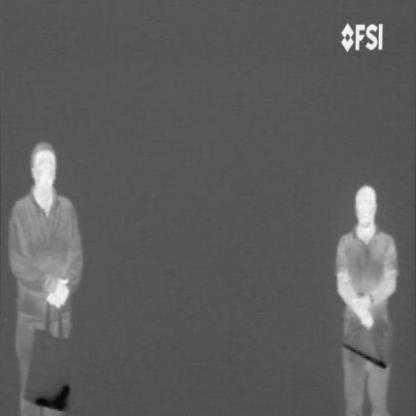weapon: (33, 381, 71, 412)
